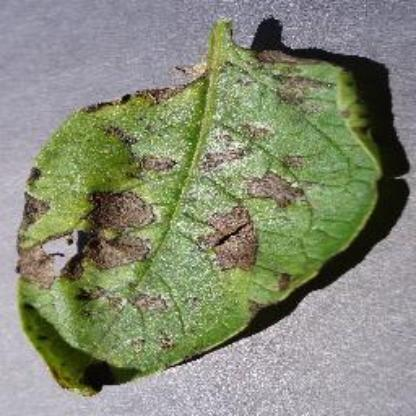Early-Blight: (13, 11, 388, 397)
